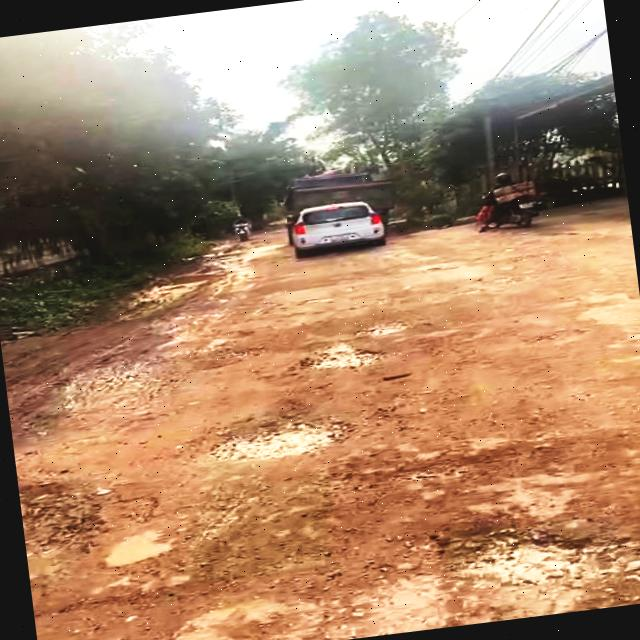pothole: (445, 509, 640, 625), (19, 478, 130, 566), (194, 412, 357, 467), (294, 342, 388, 376), (352, 316, 412, 339)
